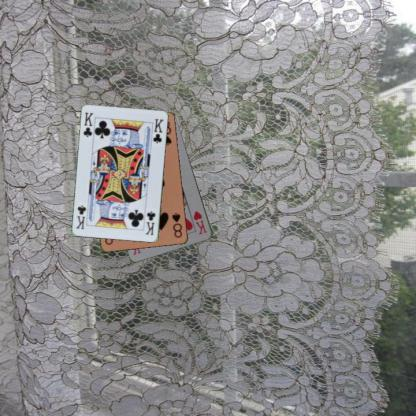8s: (169, 210, 183, 240)
Kc: (81, 110, 95, 138), (142, 209, 156, 236)
Kh: (191, 208, 208, 236)
